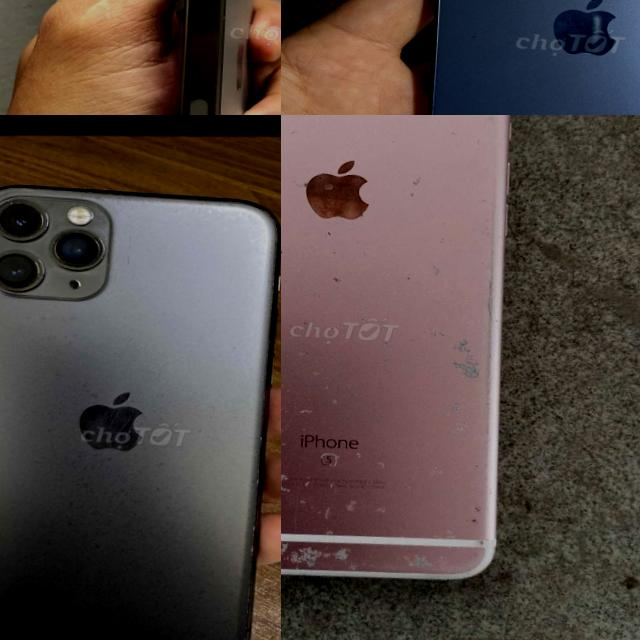gen_11: (0, 170, 281, 640)
gen_12_13: (409, 0, 640, 115)
gen_15: (108, 0, 281, 115)
gen_6: (281, 115, 510, 579)
scratch: (281, 342, 419, 516), (281, 514, 499, 586), (284, 151, 378, 228), (281, 237, 358, 293), (442, 322, 495, 397), (406, 150, 436, 213), (469, 476, 494, 536), (434, 254, 461, 290)
